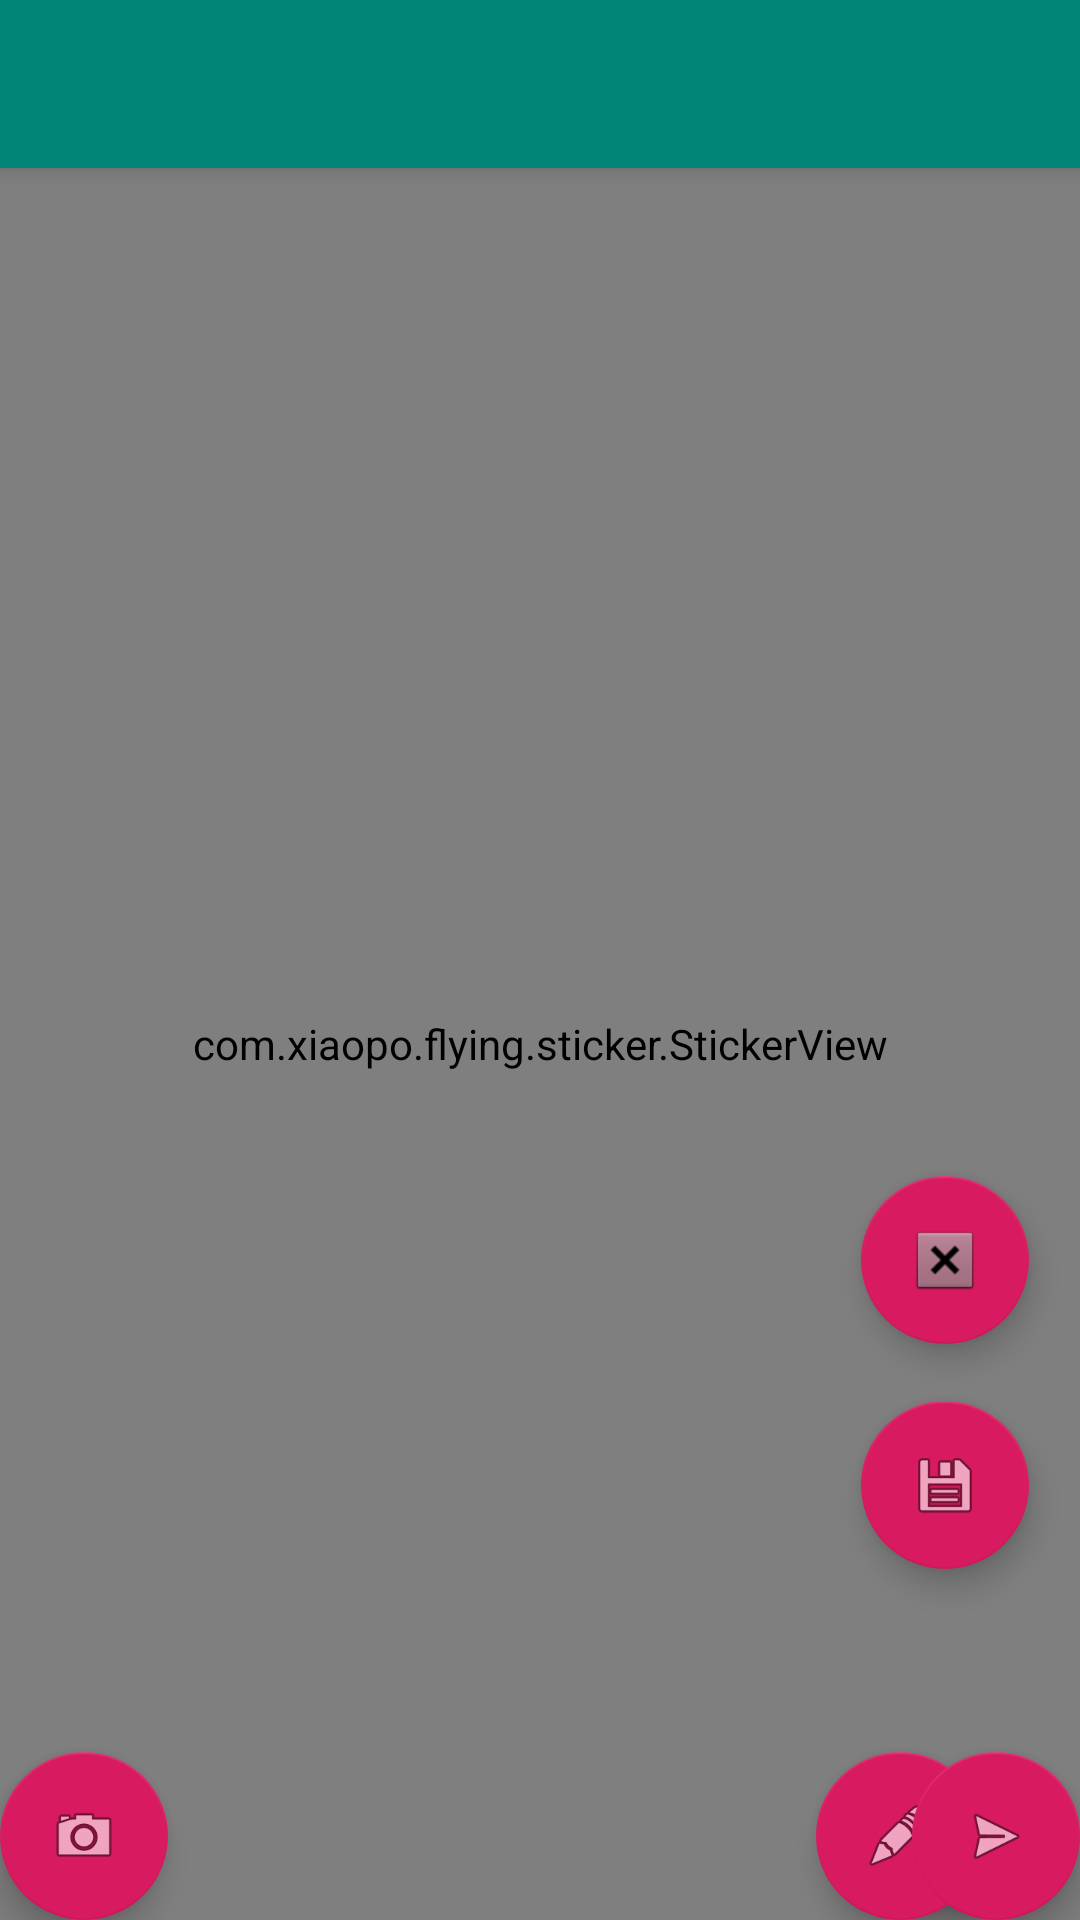

Point at icon controls on the screen. Image size 1080w x 1920h, points as [x,y].
camera: [84,1836]
save: [945,1485]
send: [996,1836]
